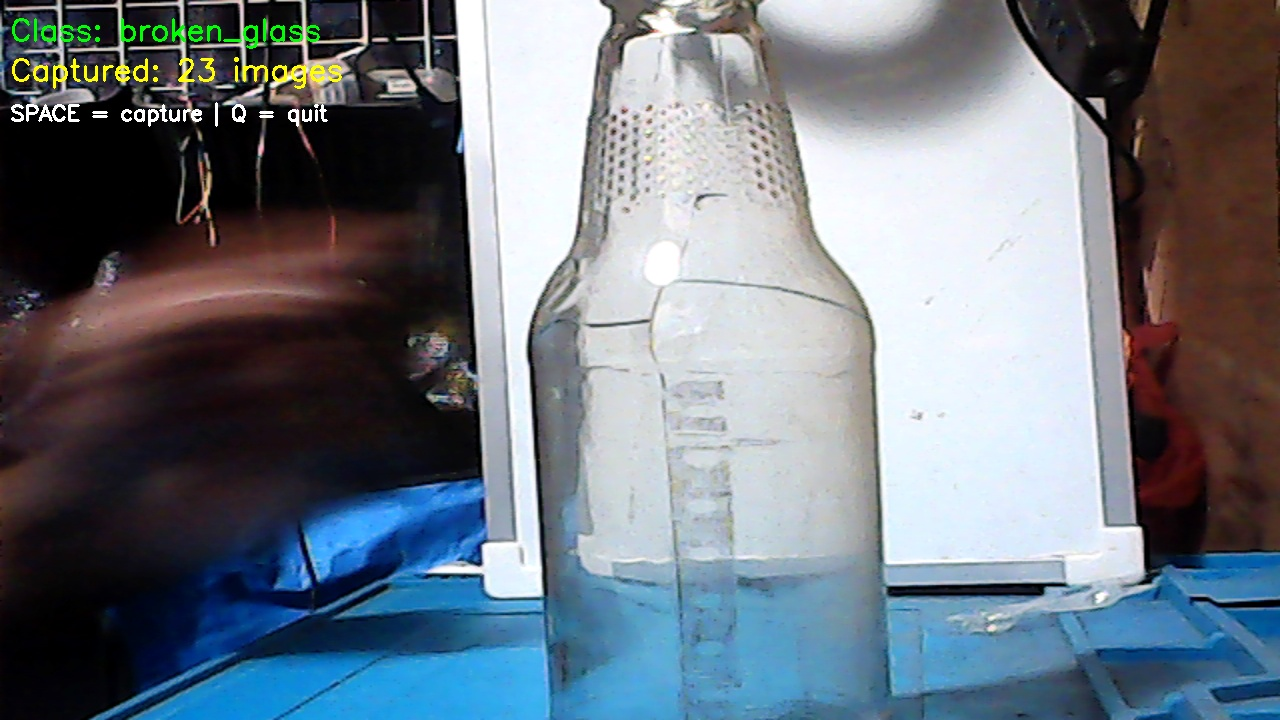broken_glass: (494, 4, 894, 720)
